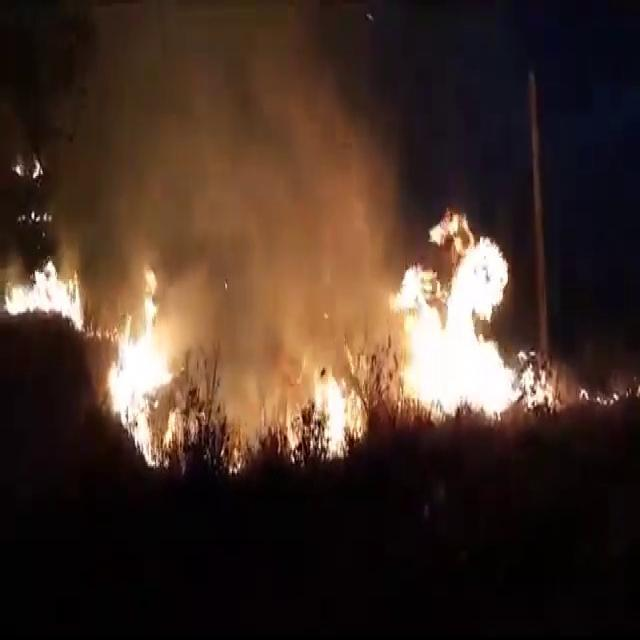Fire: (392, 210, 558, 408), (102, 277, 183, 466), (384, 264, 449, 418), (449, 227, 512, 332), (301, 364, 360, 458), (3, 258, 87, 324), (426, 204, 447, 247), (625, 386, 640, 397), (579, 388, 587, 408), (596, 396, 604, 406), (614, 392, 618, 406)
